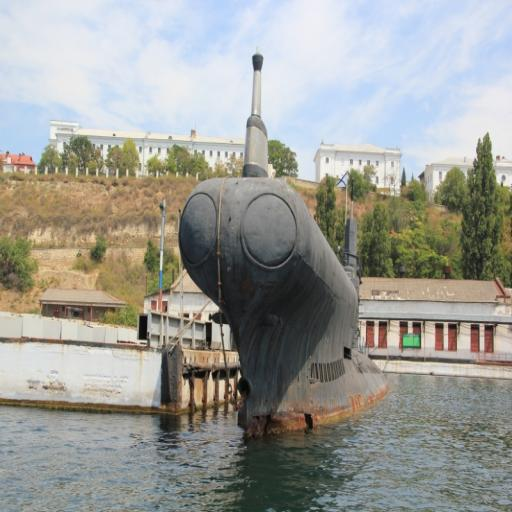submarine: (177, 45, 397, 444)
